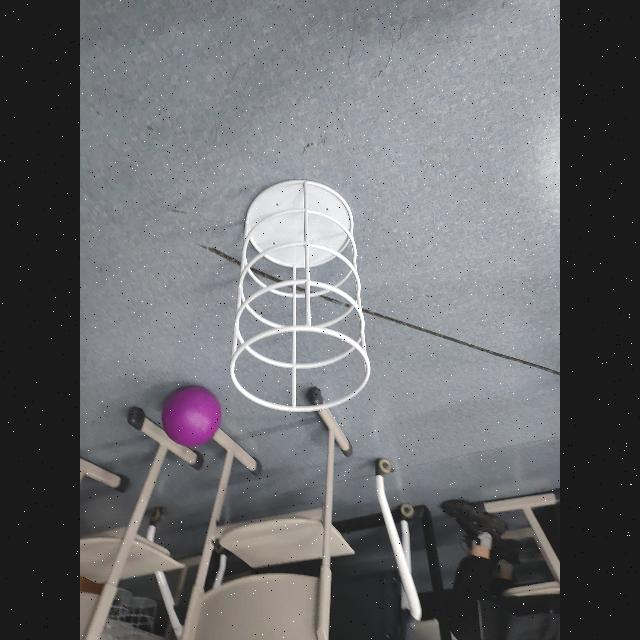S: (225, 176, 373, 414)
